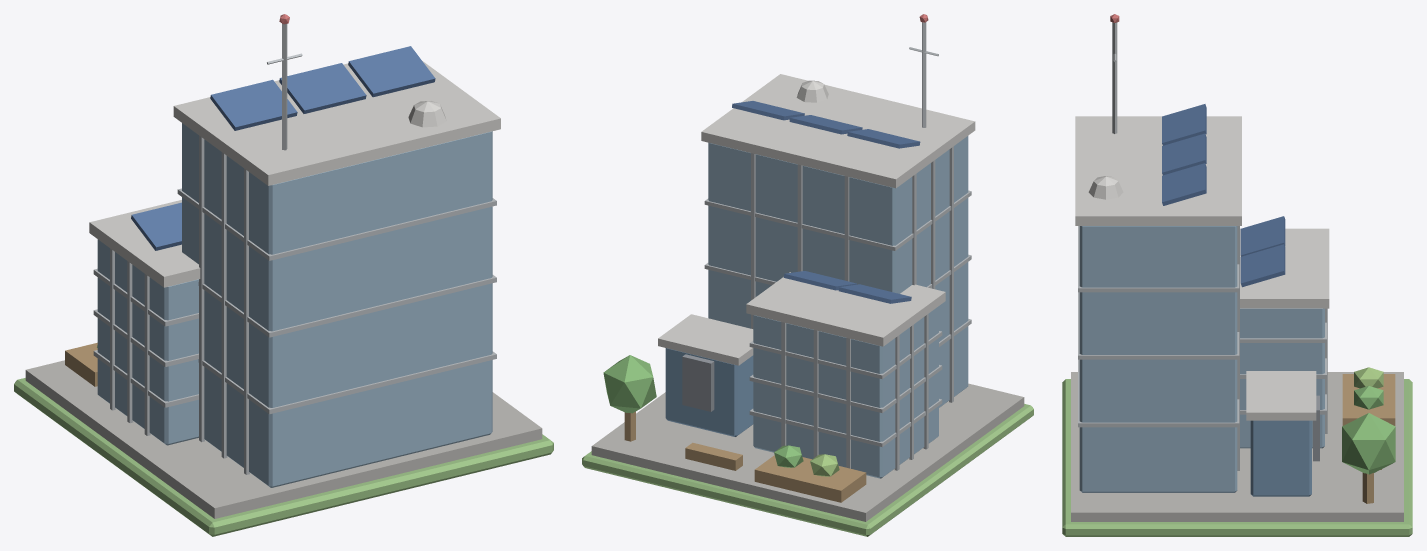
Rendered from publicos__centro_tecnologia.glb.
The picture shows the model from 3 angles, left to right: view 1: azimuth 30°, elevation 25°; view 2: azimuth 150°, elevation 25°; view 3: azimuth 270°, elevation 25°; orthographic projection. The views are drawn at different scales.
Parts seen in each view (by area): view 1: publicos__centro_tecnologia; view 2: publicos__centro_tecnologia; view 3: publicos__centro_tecnologia.
Part boxes in pixels (x1=…): publicos__centro_tecnologia: x1=14, y1=14, x2=553, y2=536; publicos__centro_tecnologia: x1=582, y1=14, x2=1033, y2=536; publicos__centro_tecnologia: x1=1062, y1=14, x2=1412, y2=536.
Bounding box in the file's own units: 2 × 2.65 × 2.
